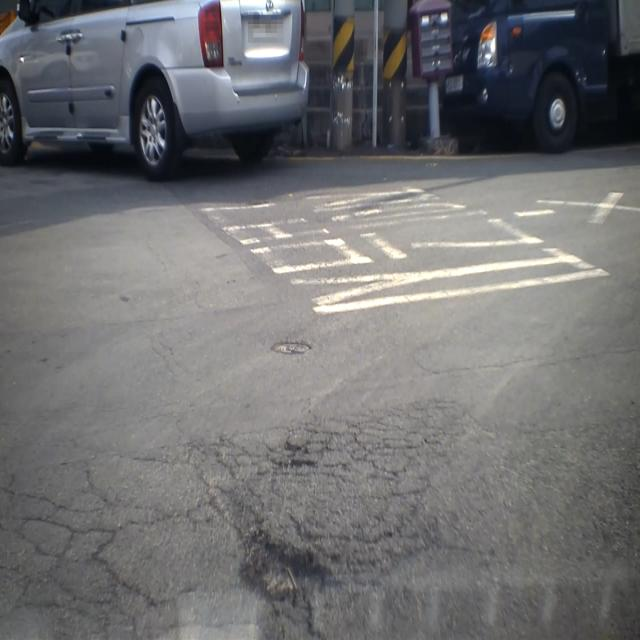Pothole: (226, 509, 344, 640)
